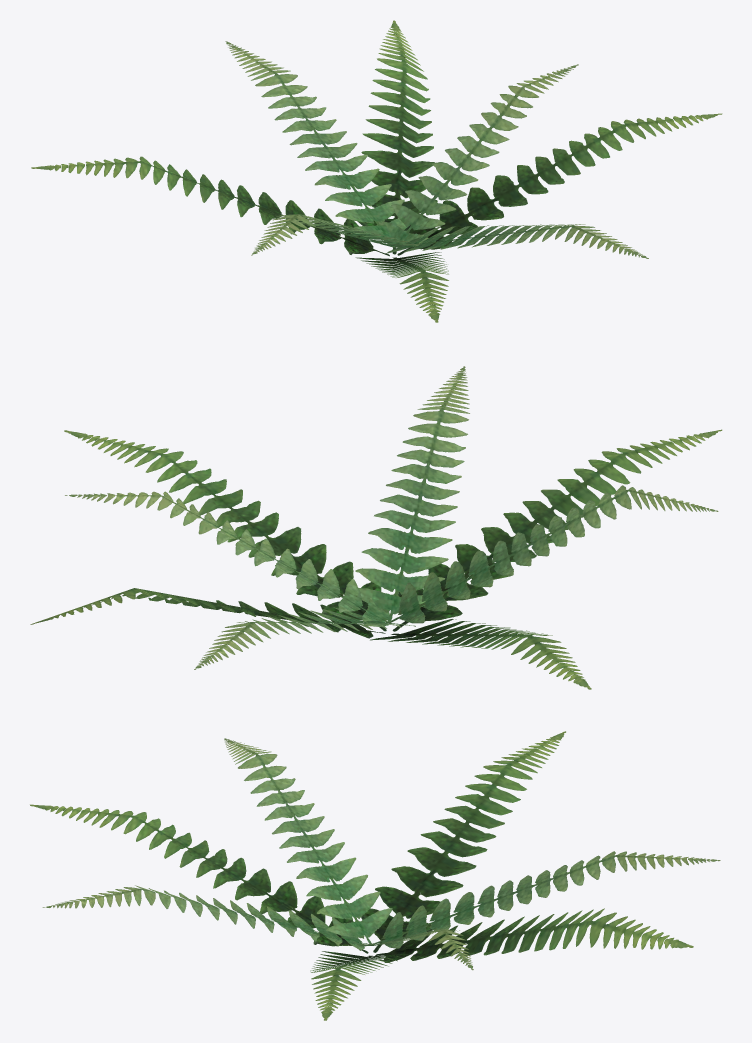
Rendered from frst_fern_green_l0.fbx.
3 views of the same model, one above another, from view 1: azimuth 30°, elevation 25°; view 2: azimuth 150°, elevation 25°; view 3: azimuth 270°, elevation 25° (orthographic). The views are drawn at different scales.
Parts seen in each view (by area): view 1: mesh_node; view 2: mesh_node; view 3: mesh_node.
Boxes of the visible parts, x1,y1,x2,y2 form: mesh_node: (31,20,722,322); mesh_node: (30,366,722,689); mesh_node: (30,731,720,1020).
Size of the model in its own units: 2.41 by 0.4663 by 2.44.
